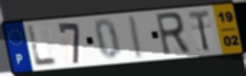0: (93, 17, 122, 61)
7: (57, 21, 82, 65)
I: (128, 13, 146, 61)
L: (26, 24, 60, 68)
R: (153, 10, 193, 58)
T: (187, 8, 212, 53)
